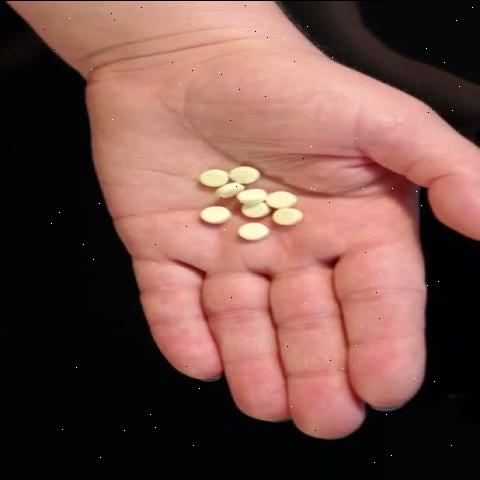Pill: (225, 214, 278, 241), (180, 201, 236, 225), (224, 158, 270, 181), (187, 165, 233, 187), (270, 205, 318, 223), (269, 184, 302, 206), (238, 185, 270, 201)
